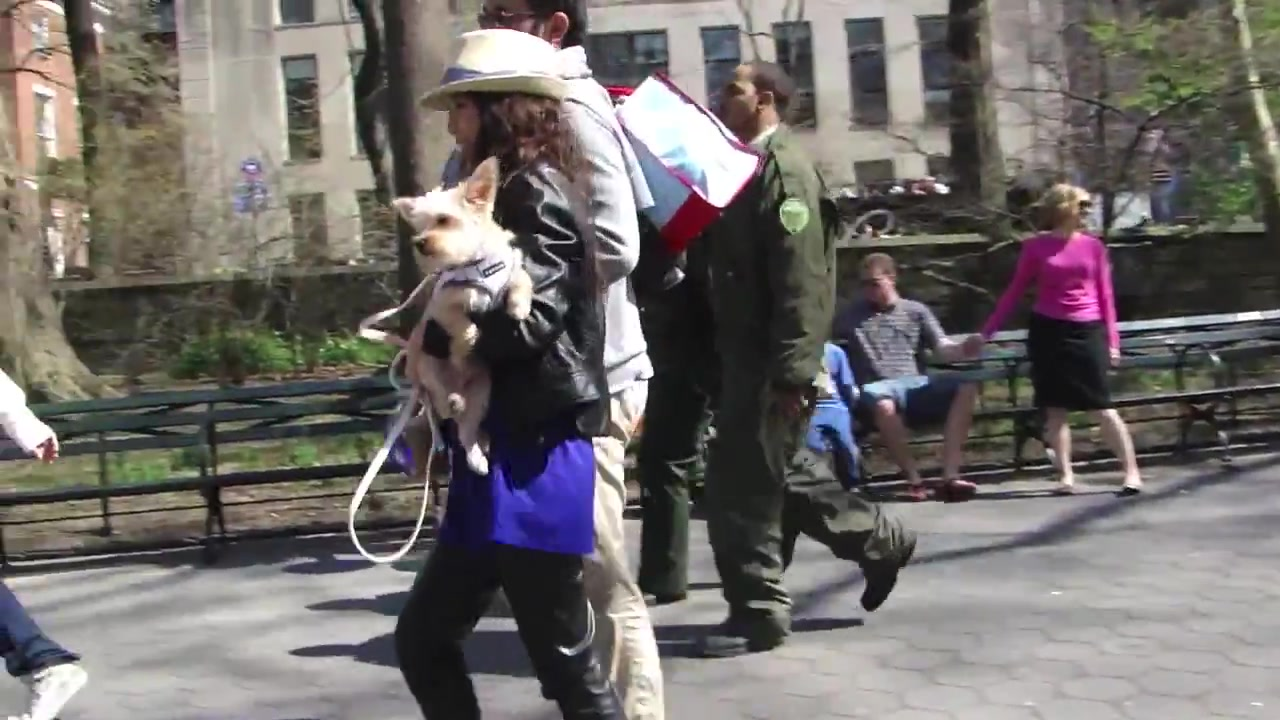dog: (390, 156, 538, 474)
